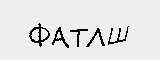А: (51, 25, 69, 52)
Л: (86, 26, 106, 49)
Т: (67, 26, 88, 50)
Ф: (27, 22, 52, 49)
Ш: (106, 25, 132, 47)
